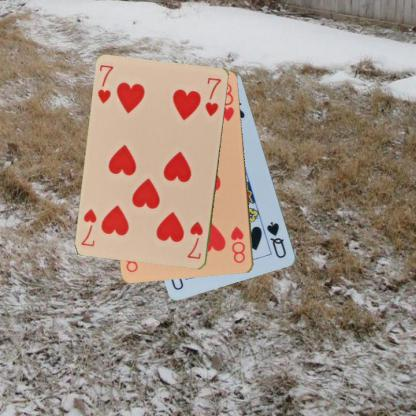7h: (95, 63, 115, 106), (185, 219, 204, 261)
8h: (228, 224, 247, 265)
Qs: (264, 219, 288, 260)
